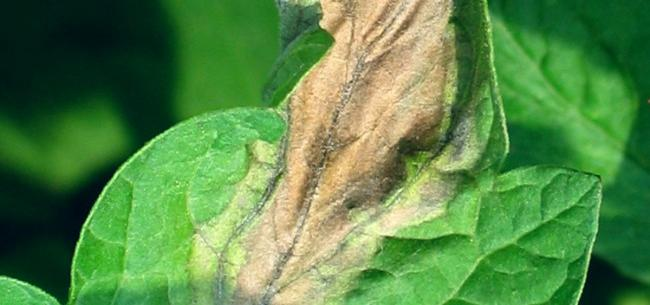Tomato leaf late blight: (65, 3, 630, 301)
